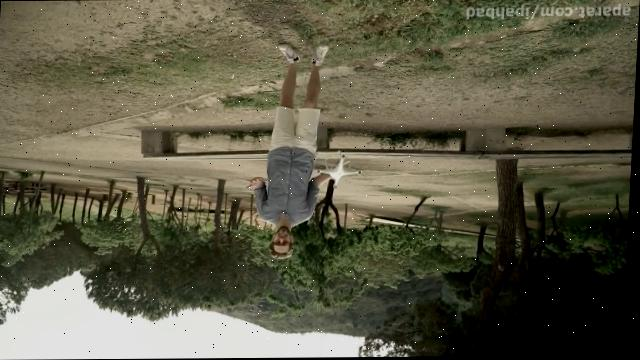drone: (317, 152, 365, 192)
